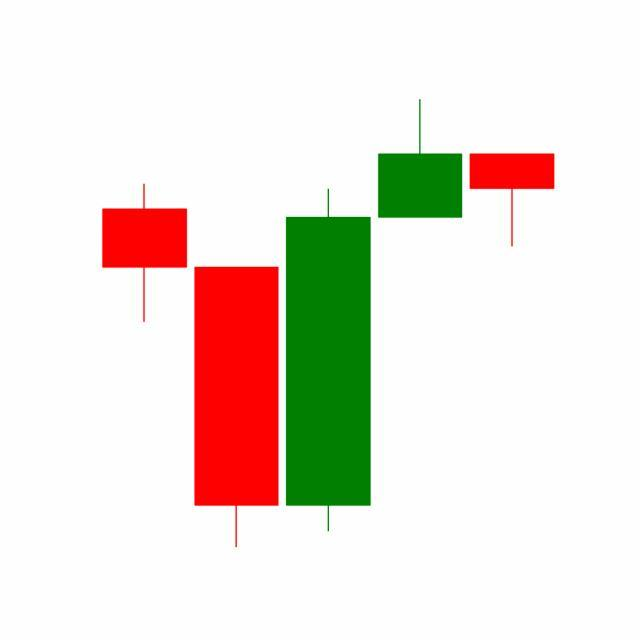Hammer: (466, 153, 559, 249)
